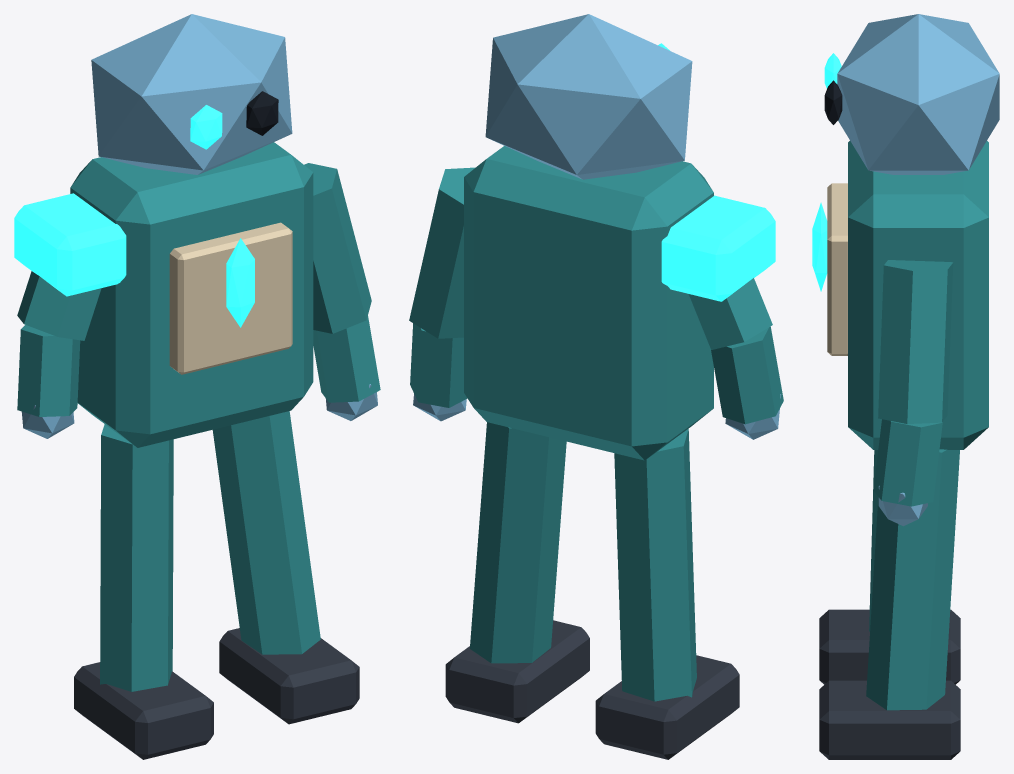
The model's file is npcs_008_seed100.glb.
The picture shows the model from 3 angles, left to right: view 1: azimuth 30°, elevation 25°; view 2: azimuth 150°, elevation 25°; view 3: azimuth 270°, elevation 25°; orthographic projection. The views are drawn at different scales.
Visible parts, largest first — view 1: npcs_008_seed100; view 2: npcs_008_seed100; view 3: npcs_008_seed100.
Boxes of the visible parts, x1,y1,x2,y2 form: npcs_008_seed100: (14,14,380,759); npcs_008_seed100: (409,14,783,759); npcs_008_seed100: (812,14,999,759).
Size of the model in its own units: 1.08 by 2 by 0.4924.
